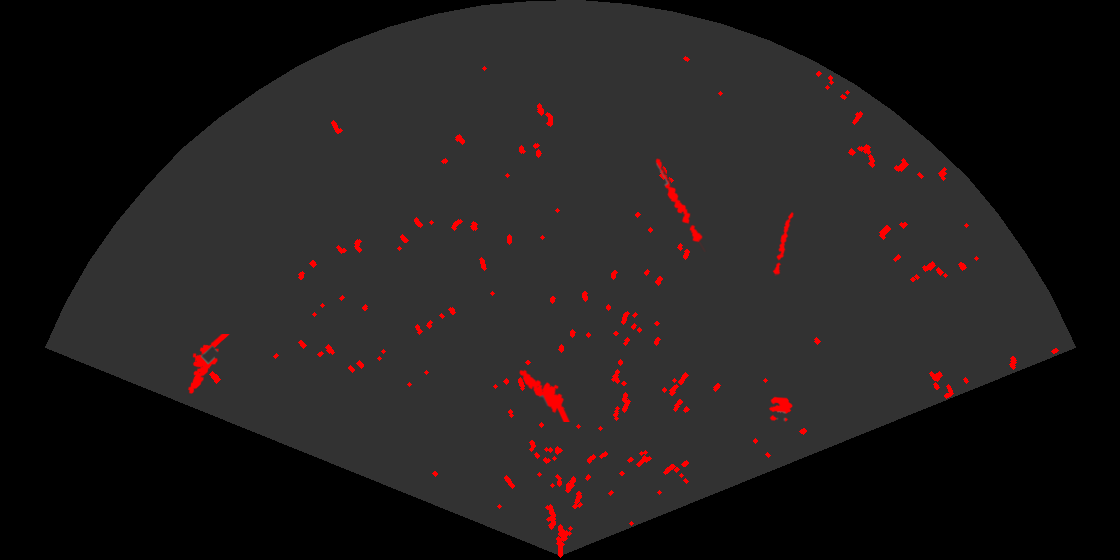ball: (767, 395, 794, 423)
chain: (654, 157, 707, 252), (771, 210, 795, 276)
frogman: (518, 368, 572, 422), (186, 334, 231, 396)
